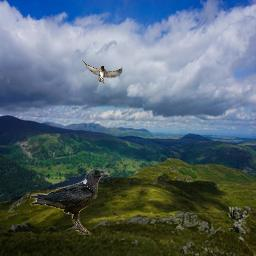Crow: (30, 169, 110, 235)
Swallow: (81, 59, 123, 84)
